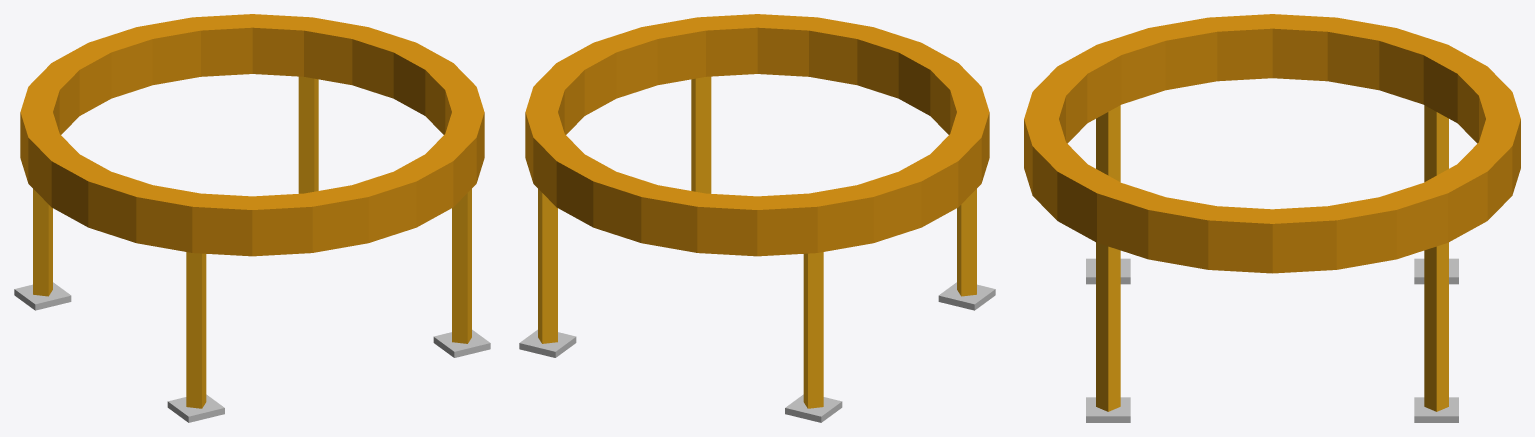
The model's file is body.obj.
3 views of the same model, side by side, from view 1: azimuth 30°, elevation 25°; view 2: azimuth 150°, elevation 25°; view 3: azimuth 270°, elevation 25° (orthographic). The views are drawn at different scales.
Size of the model in its own units: 2 by 1 by 2.
